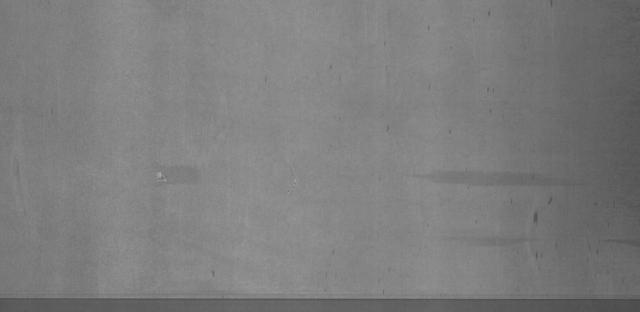welding_line: (2, 290, 640, 308)
